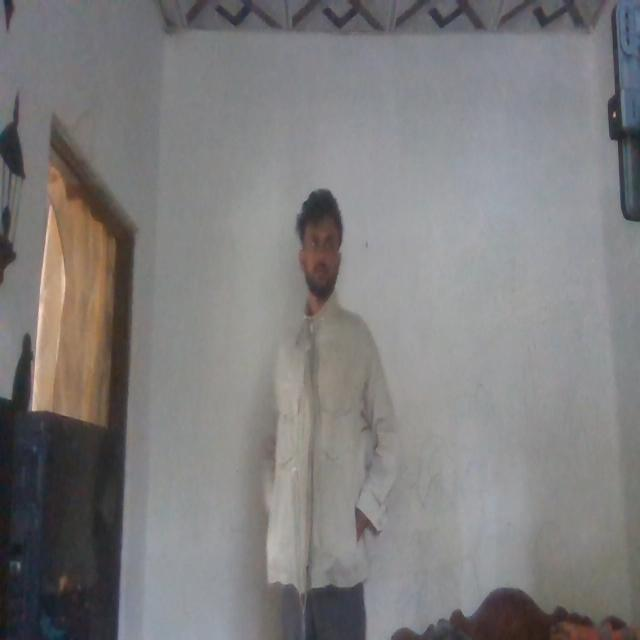Jacket_Wearer: (262, 307, 398, 566)
Person: (258, 189, 394, 640)
